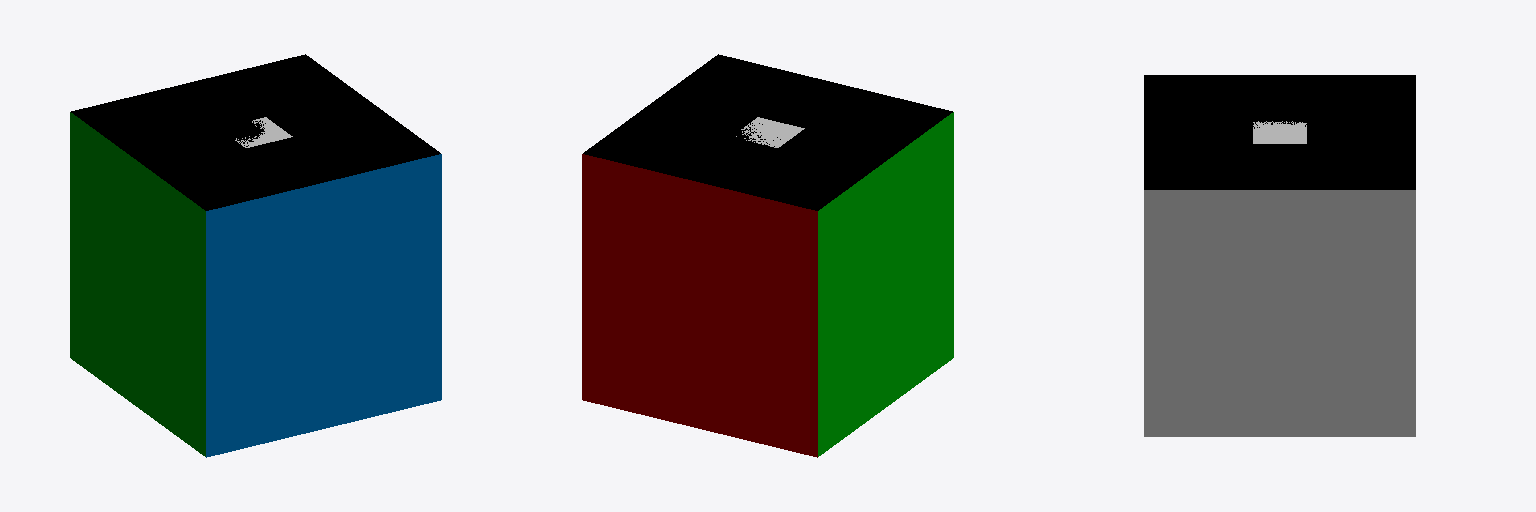
The model's file is cornellbox-test-2-lamp.obj.
The picture shows the model from 3 angles: view 1: azimuth 30°, elevation 25°; view 2: azimuth 150°, elevation 25°; view 3: azimuth 270°, elevation 25°; orthographic projection.
Parts seen in each view (by area): view 1: right_wall_Plane.003, front_wall_Plane.005, ceiling_Plane.007, Area_light_Plane; view 2: left_wall_Plane.002, front_wall_Plane.005, ceiling_Plane.007, Area_light_Plane; view 3: back_wall_Plane.001, ceiling_Plane.007, Area_light_Plane.
Boxes of the visible parts, x1=… form: right_wall_Plane.003: x1=206, y1=154, x2=441, y2=457; front_wall_Plane.005: x1=70, y1=112, x2=205, y2=456; ceiling_Plane.007: x1=71, y1=54, x2=440, y2=210; Area_light_Plane: x1=235, y1=117, x2=292, y2=147; left_wall_Plane.002: x1=582, y1=154, x2=817, y2=457; front_wall_Plane.005: x1=818, y1=112, x2=953, y2=456; ceiling_Plane.007: x1=583, y1=54, x2=952, y2=210; Area_light_Plane: x1=736, y1=117, x2=804, y2=147; back_wall_Plane.001: x1=1144, y1=190, x2=1415, y2=436; ceiling_Plane.007: x1=1144, y1=75, x2=1415, y2=189; Area_light_Plane: x1=1253, y1=121, x2=1306, y2=143.
Bounding box in the file's own units: 10 × 10 × 10.